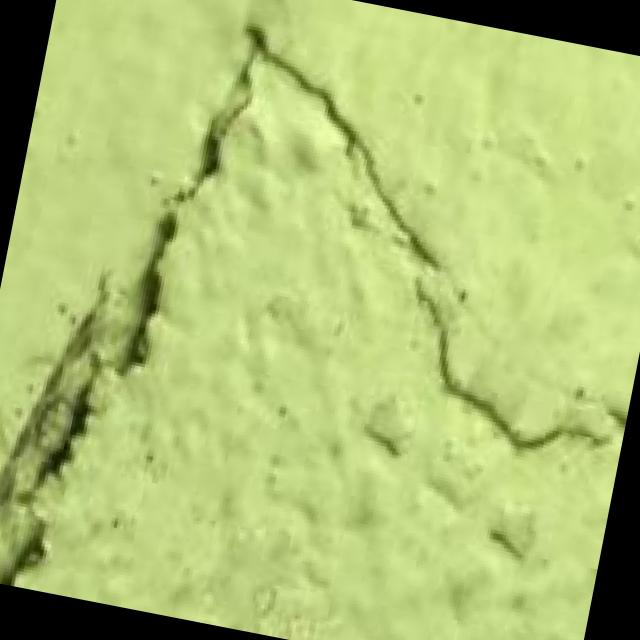crack: (0, 10, 602, 640)
